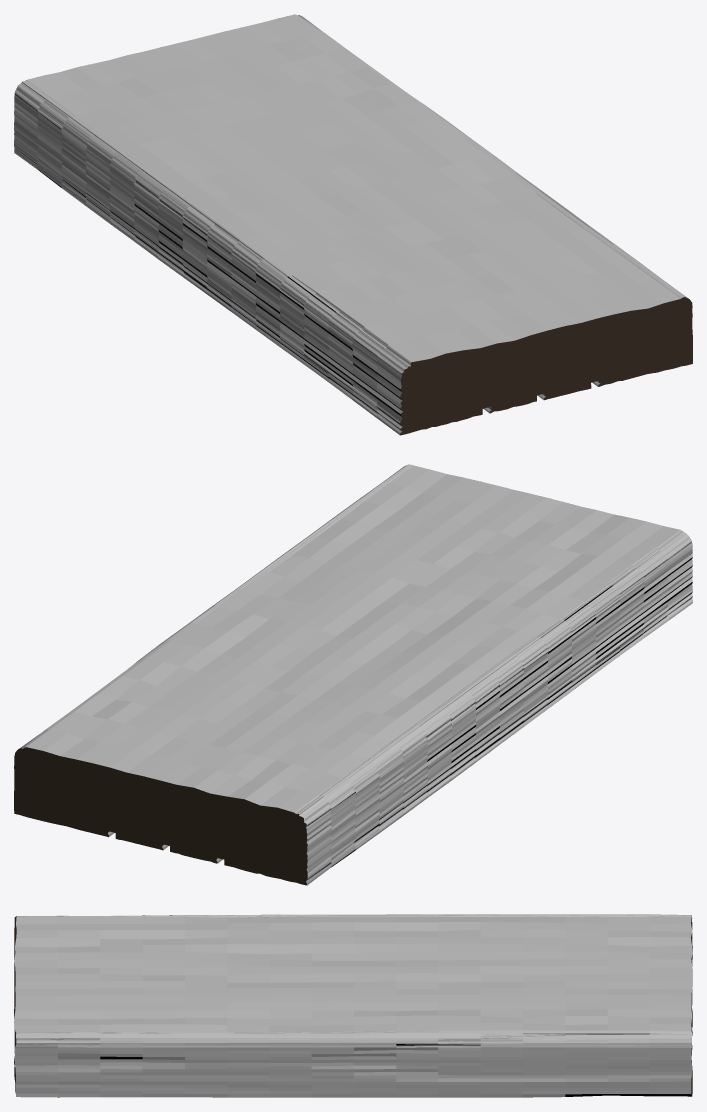
The model's file is spruce-terrace.glb.
3 renders of one model, top to bottom at view 1: azimuth 30°, elevation 25°; view 2: azimuth 150°, elevation 25°; view 3: azimuth 270°, elevation 25°, orthographic. The views are drawn at different scales.
Parts seen in each view (by area): view 1: Staciakampis; view 2: Staciakampis; view 3: Staciakampis.
Boxes of the visible parts, x1=… form: Staciakampis: x1=14, y1=14, x2=692, y2=435; Staciakampis: x1=14, y1=464, x2=692, y2=885; Staciakampis: x1=14, y1=914, x2=692, y2=1097.
Bounding box in the file's own units: 0.0734 × 0.0176 × 0.1673.
